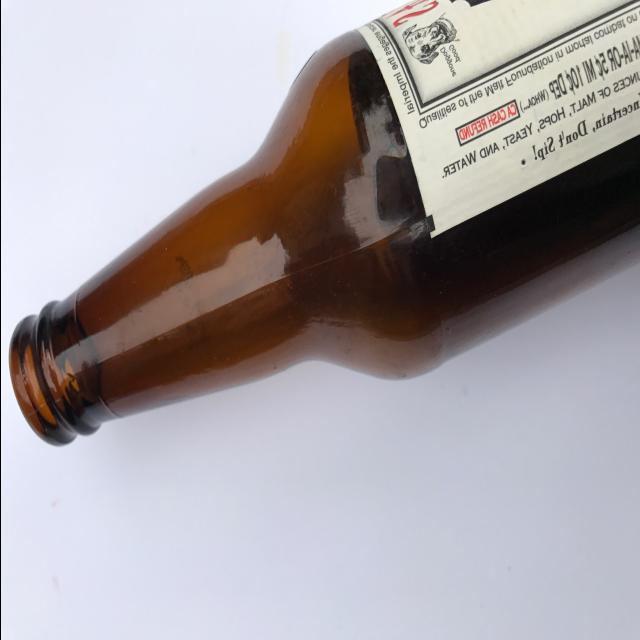glass: (2, 1, 640, 507)
